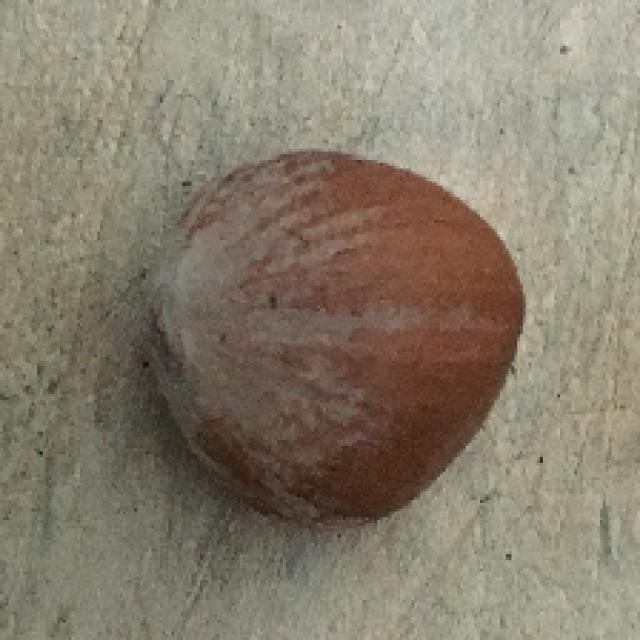QualityHazelnut: (142, 152, 533, 521)
